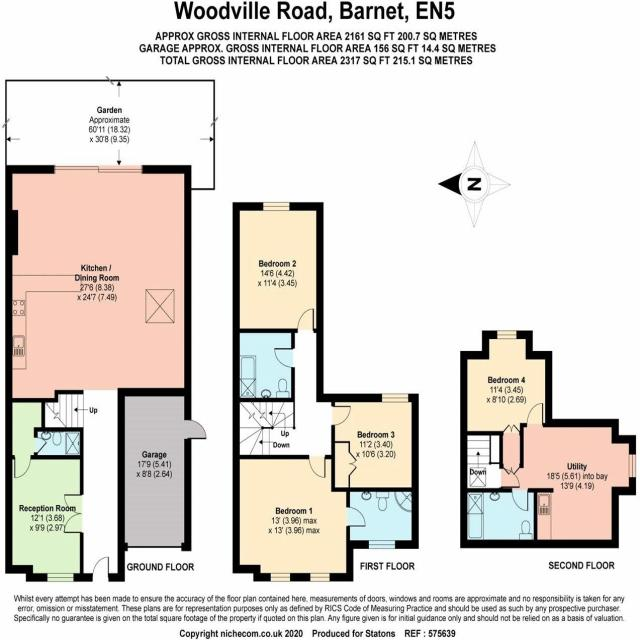DOOR: (91, 556, 110, 582), (296, 308, 315, 333), (274, 347, 295, 369), (510, 488, 529, 512), (526, 403, 544, 428), (308, 454, 326, 478), (13, 455, 31, 479), (331, 405, 351, 426)
DOUBLE DOOR: (62, 492, 84, 534)
ROOM: (4, 165, 192, 403), (232, 454, 367, 582), (233, 202, 324, 333), (5, 455, 84, 582), (460, 330, 552, 436), (331, 393, 419, 492)
SLIDING DOOR: (54, 164, 144, 176)
WINDOW: (368, 540, 396, 550), (381, 393, 409, 403), (46, 572, 74, 582), (262, 202, 290, 211), (270, 572, 291, 582), (628, 453, 636, 479), (310, 572, 330, 582), (497, 330, 517, 339)
